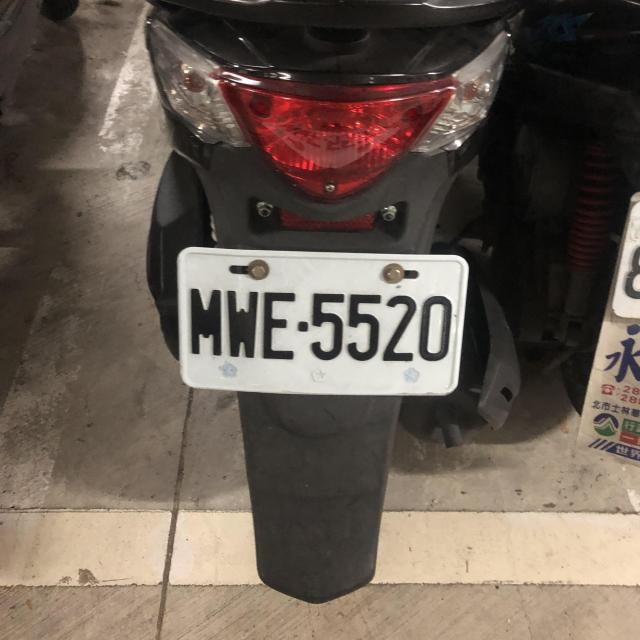W: (171, 248, 467, 393), (604, 183, 640, 351)
